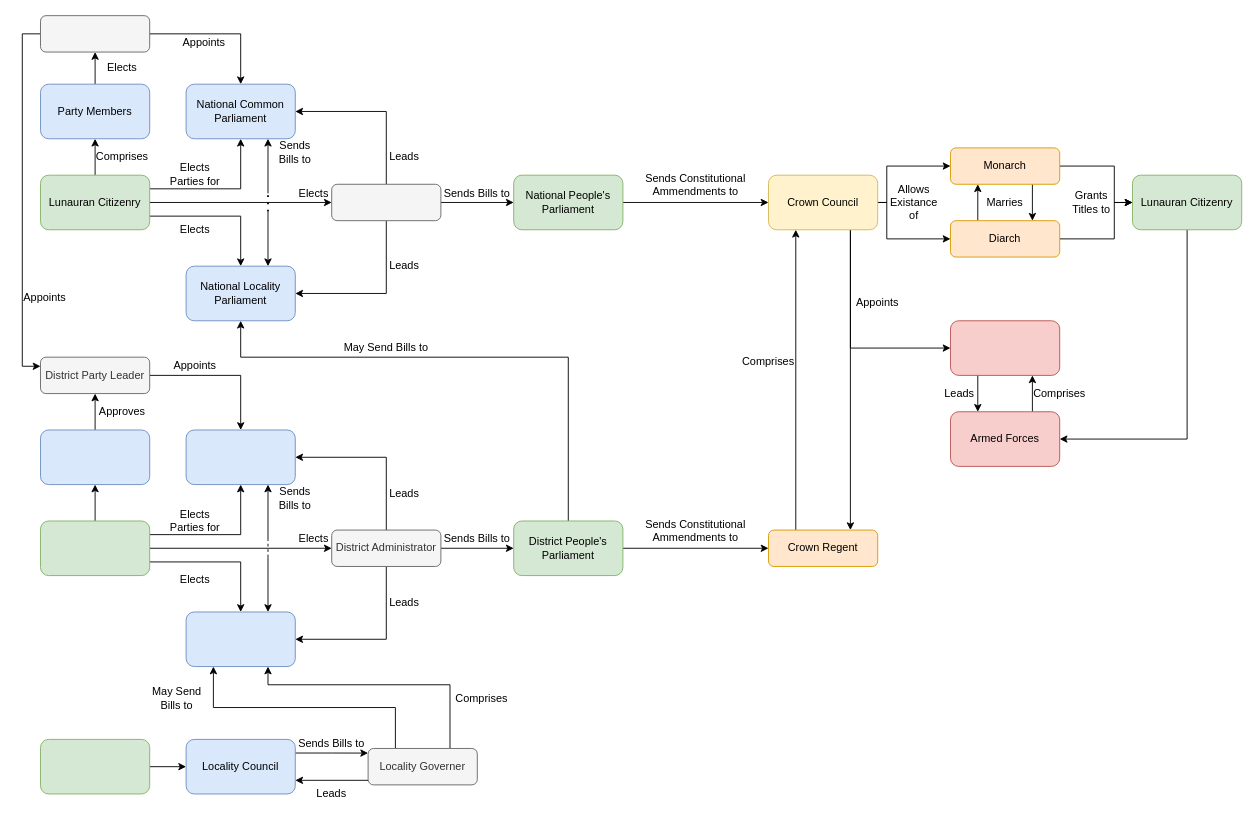
Image size: 1258x819. Some labels were removed from this diagram. The centre of each missing label's shape, as x and y in pixels:
"Chancellor" belongs at (x=386, y=202).
"District Citizenry" belongs at (x=95, y=548).
"District Common Parliament" belongs at (x=240, y=457).
"District Locality Parliament" belongs at (x=240, y=639).
"District Party Members" belongs at (x=95, y=457).
"Locality Citizenry" belongs at (x=95, y=766).
"Party Leader" belongs at (x=95, y=33).
"Strategic Council" belongs at (x=1005, y=347).
